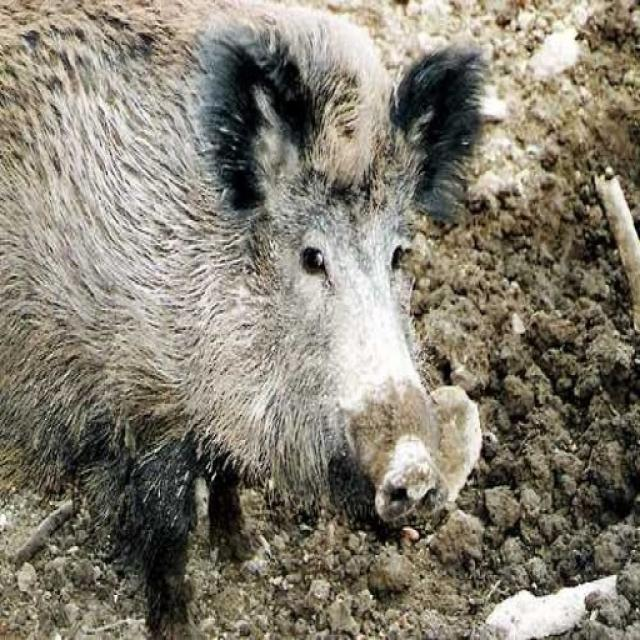pig: (0, 0, 525, 554)
